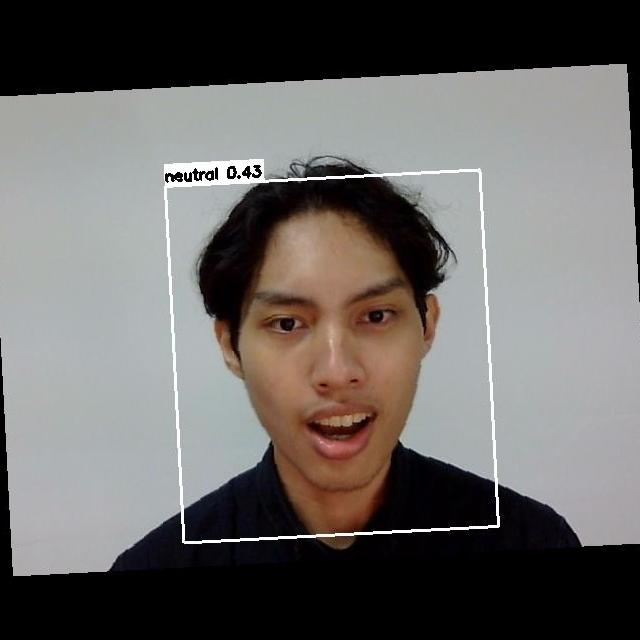Surprised: (230, 260, 435, 471)
